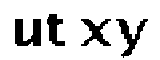t: (46, 13, 68, 49)
u: (10, 15, 44, 52)
x: (77, 17, 112, 50)
y: (113, 16, 150, 59)
